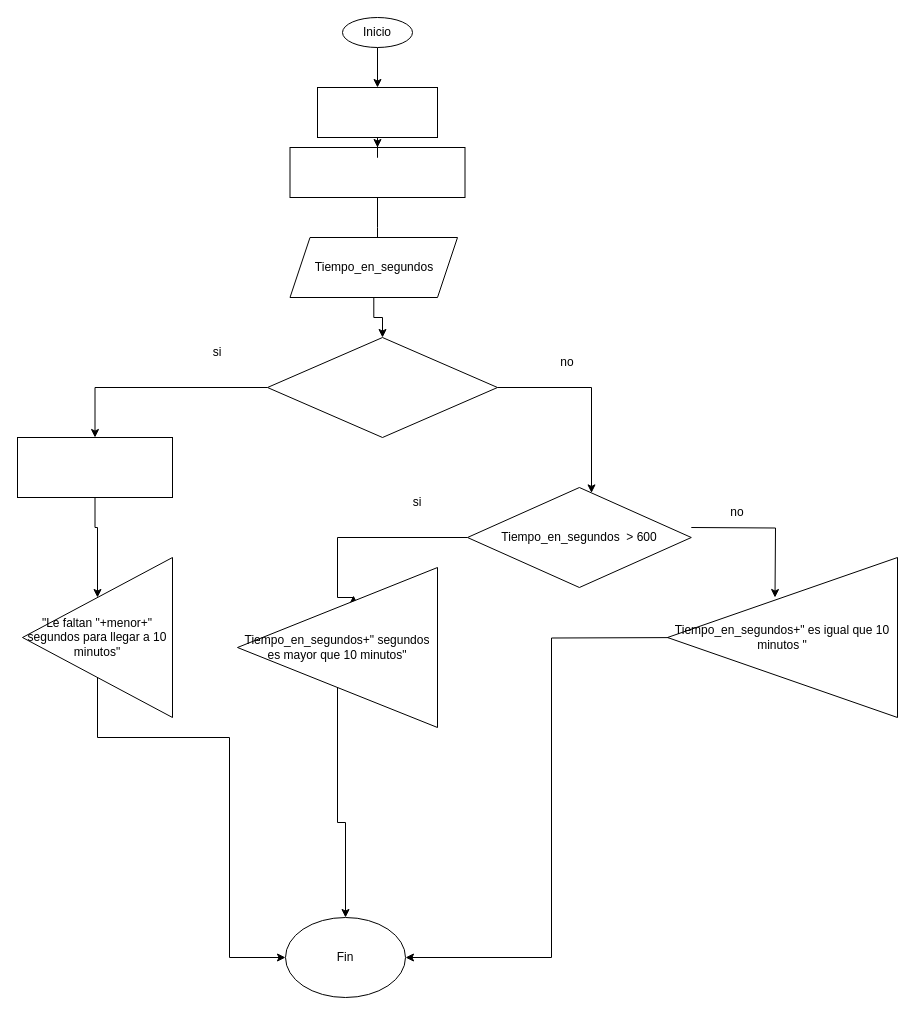
The diagram is 915 pixels wide and 1015 high, and some of its shapes have lost their labels. The centre of each missing label's shape, as x and y in pixels:
"menor = 600-Tiempo_en_segundos" goes at point 94,467.
"menor= 0" goes at point 377,172.
"Tiempo_en_segundos < 600" goes at point 382,387.
"Tiempo_en_segundos = 0" goes at point 377,112.
